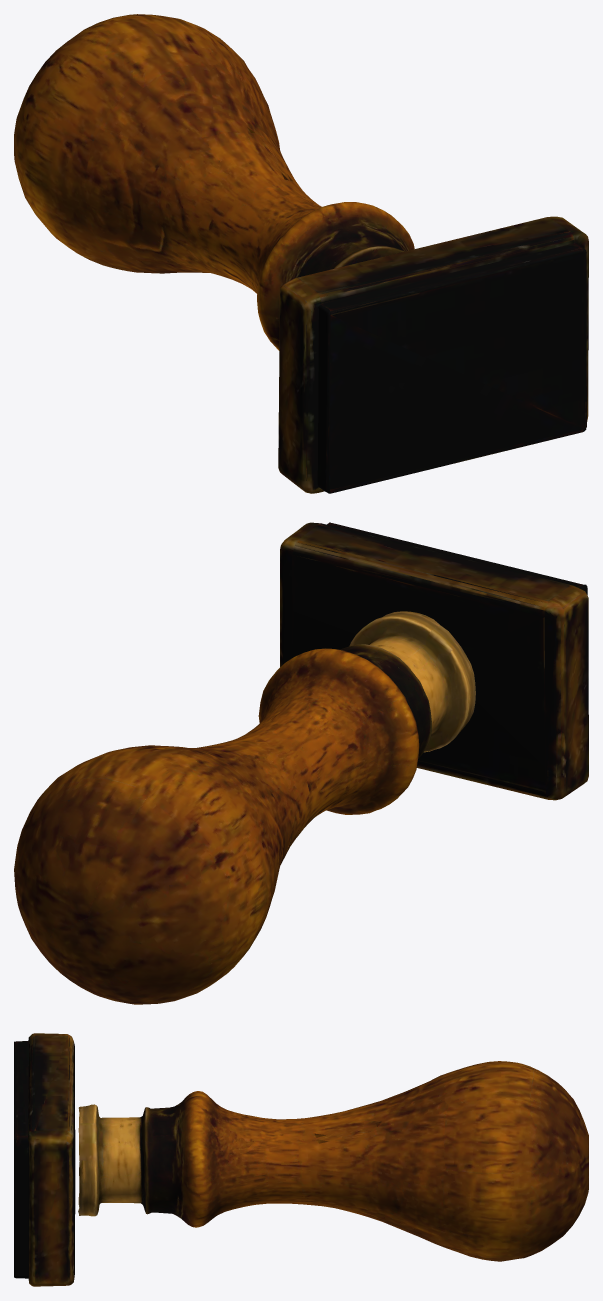
Rendered from stamp.glb.
3 views of the same model, one above another, from view 1: azimuth 30°, elevation 25°; view 2: azimuth 150°, elevation 25°; view 3: azimuth 270°, elevation 25° (orthographic). The views are drawn at different scales.
Parts seen in each view (by area): view 1: geometry_0; view 2: geometry_0; view 3: geometry_0.
Part boxes in pixels (box(x1,y1,x2,y2)): geometry_0: box(14, 14, 588, 493); geometry_0: box(14, 522, 588, 1004); geometry_0: box(14, 1033, 588, 1286).
Size of the model in its own units: 0.4461 by 0.3491 by 1.
Materials: 1 (1 with a texture image).
